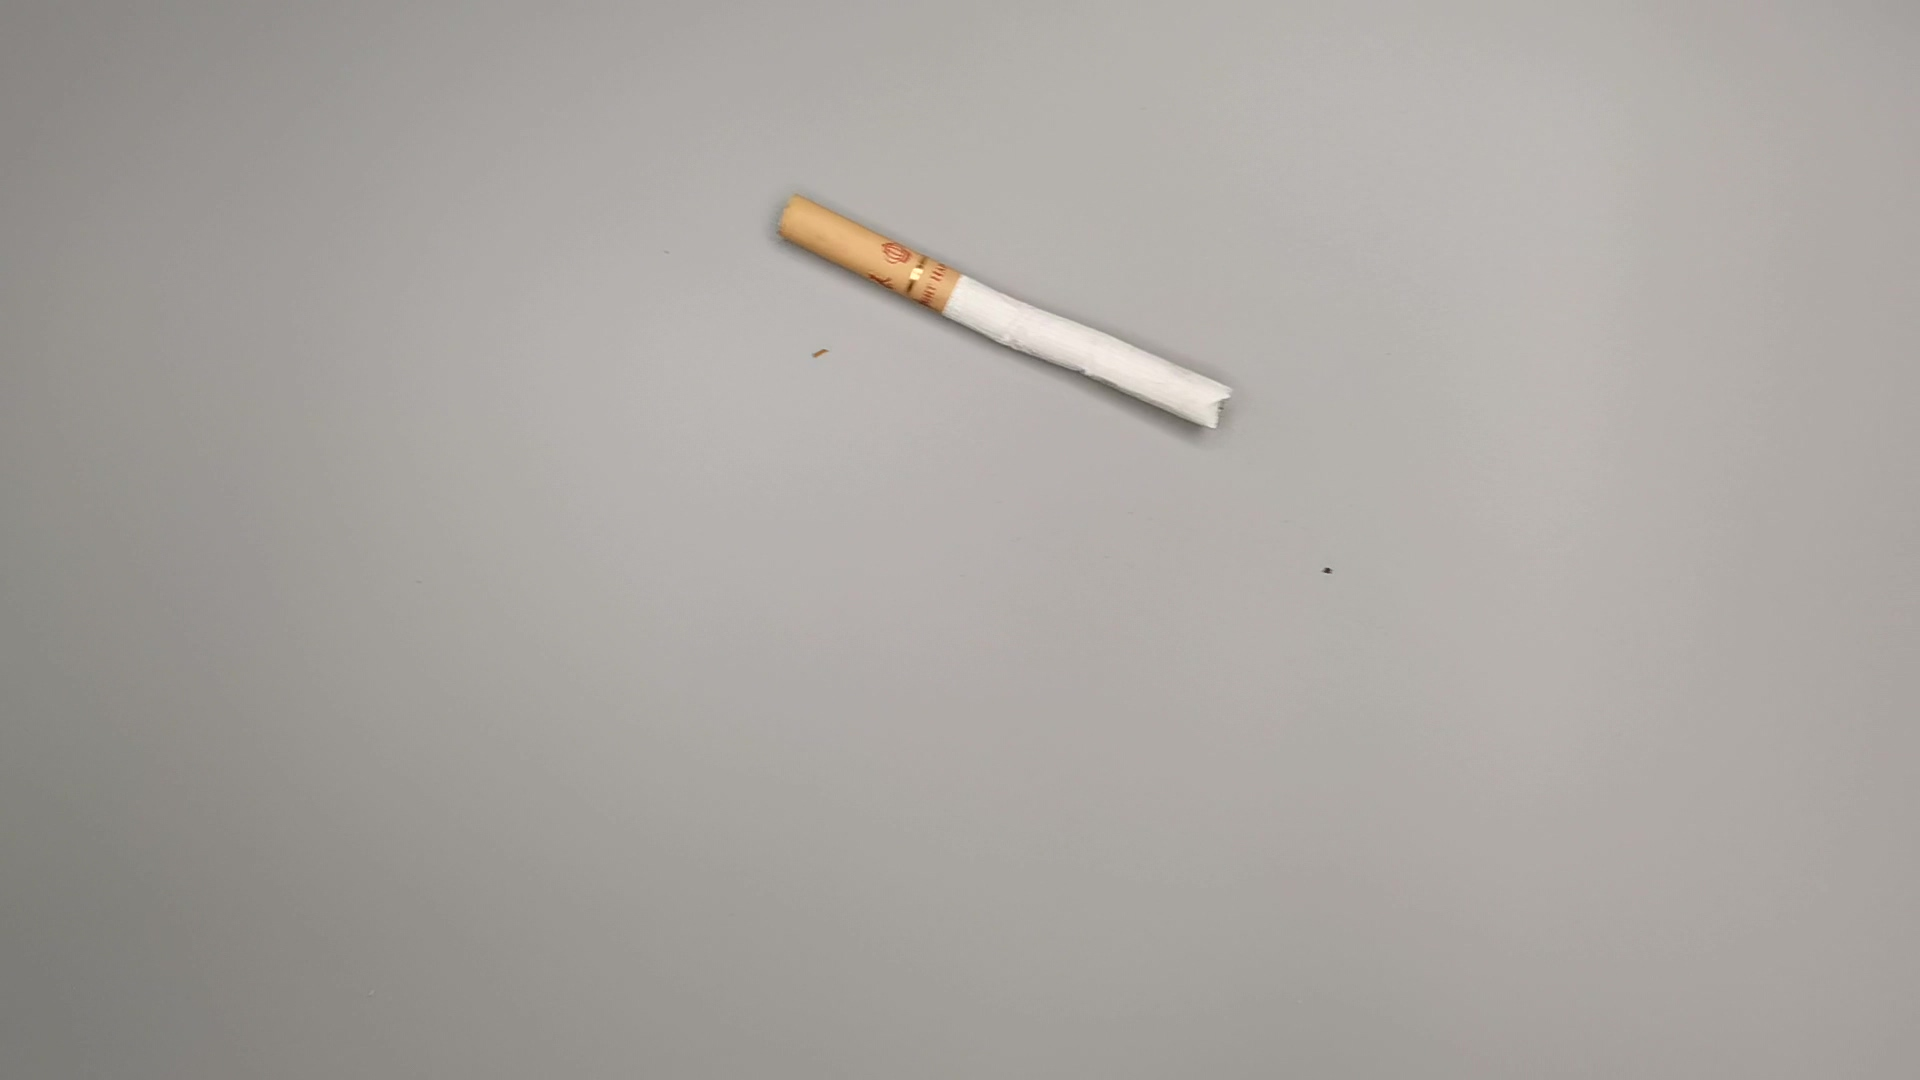cigarette: (770, 186, 1238, 438)
